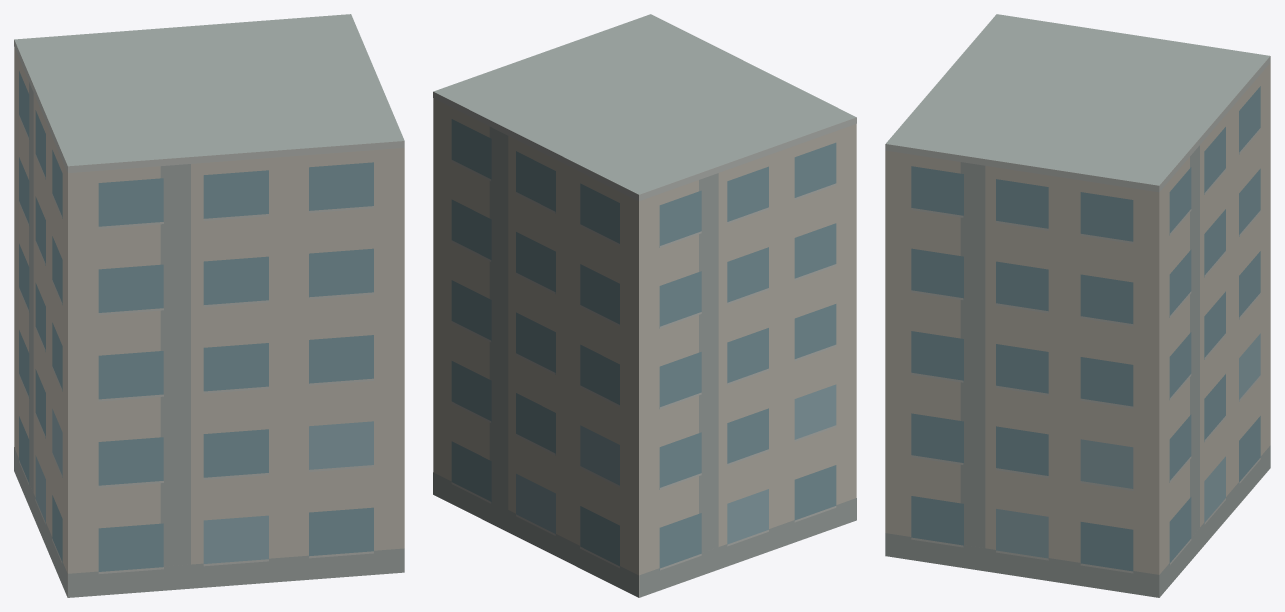
File: residential-26372ee1-5e06-43ff-8e31-4f318be29ab3.glb
The picture shows the model from 3 angles, left to right: view 1: azimuth 30°, elevation 25°; view 2: azimuth 150°, elevation 25°; view 3: azimuth 270°, elevation 25°; orthographic projection. The views are drawn at different scales.
Visible parts, largest first — view 1: residential-26372ee1-5e06-43ff-8e31-4f318be29ab3.tmp; view 2: residential-26372ee1-5e06-43ff-8e31-4f318be29ab3.tmp; view 3: residential-26372ee1-5e06-43ff-8e31-4f318be29ab3.tmp.
Part boxes in pixels (box(x1,y1,x2,y2)): residential-26372ee1-5e06-43ff-8e31-4f318be29ab3.tmp: box(14, 14, 404, 597); residential-26372ee1-5e06-43ff-8e31-4f318be29ab3.tmp: box(433, 14, 856, 597); residential-26372ee1-5e06-43ff-8e31-4f318be29ab3.tmp: box(885, 14, 1270, 597).
Size of the model in its own units: 13.64 by 15.25 by 12.92.
